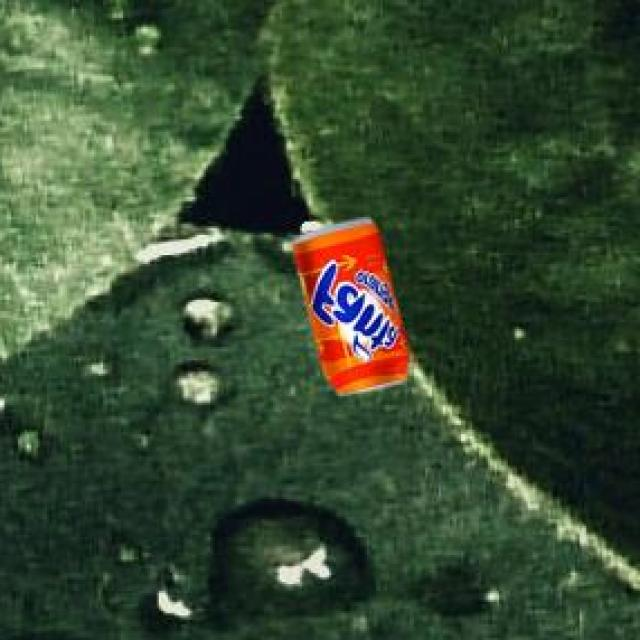logam: (290, 220, 406, 397)
